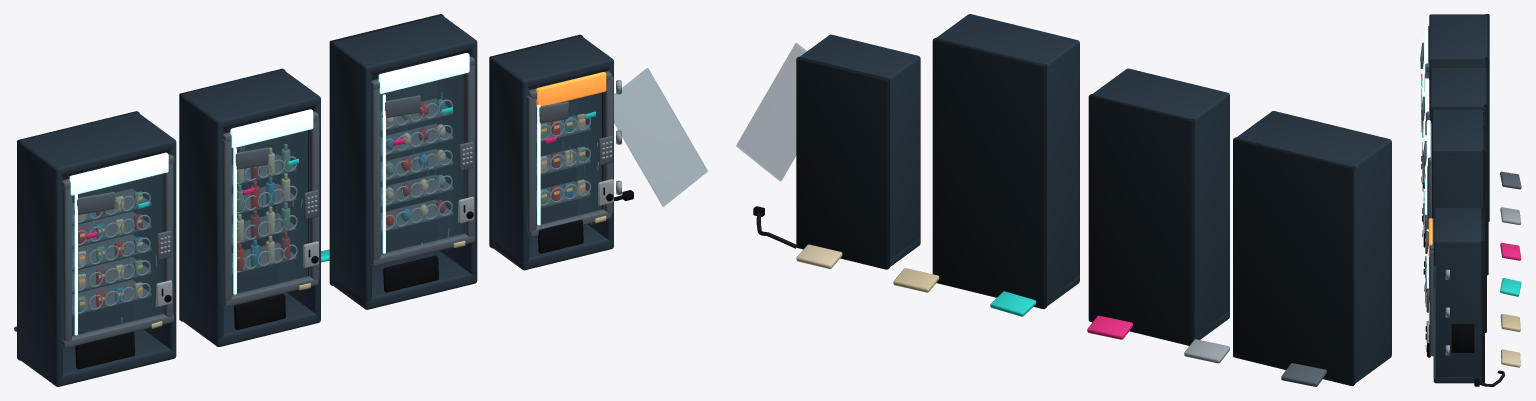
3 renders of one model, left to right at view 1: azimuth 30°, elevation 25°; view 2: azimuth 150°, elevation 25°; view 3: azimuth 270°, elevation 25°, orthographic. The views are drawn at different scales.
Visible parts, largest first — view 1: glass_front_glass, snacks_glass, drinks_glass, glass_front_side_l, snacks_side_l, drinks_side_l, retro_glass, retro_side_l, open_variant_glass_door, snacks_top, drinks_top, glass_front_side_r (+49 smaller); view 2: glass_front_back, snacks_back, drinks_back, retro_back, snacks_side_l, drinks_side_l, glass_front_side_l, retro_side_l, open_variant_glass_door, snacks_top, drinks_top, glass_front_top (+7 smaller); view 3: retro_side_r, glass_front_side_r, snacks_top, drinks_top, glass_front_top, retro_top, retro_missing_panel_dark_opening, retro_back, glass_front_back, snacks_side_r, retro_door_right, snacks_back (+20 smaller).
Part boxes in pixels (box(x1,y1,x2,y2)): glass_front_glass: box(376, 74, 464, 254); snacks_glass: box(67, 173, 163, 336); drinks_glass: box(228, 130, 308, 295); glass_front_side_l: box(330, 41, 371, 309); snacks_side_l: box(18, 142, 62, 386); drinks_side_l: box(180, 97, 223, 345); retro_glass: box(534, 92, 601, 225); retro_side_l: box(491, 57, 529, 269); open_variant_glass_door: box(603, 68, 707, 206); snacks_top: box(20, 112, 176, 175); drinks_top: box(181, 69, 320, 128); glass_front_side_r: box(437, 15, 477, 282); glass_front_back: box(932, 37, 1046, 309); snacks_back: box(1233, 137, 1355, 386); drinks_back: box(1088, 94, 1194, 345); retro_back: box(796, 56, 889, 269); snacks_side_l: box(1354, 140, 1391, 382); drinks_side_l: box(1193, 96, 1229, 339); glass_front_side_l: box(1044, 40, 1079, 304); retro_side_l: box(887, 55, 920, 264); open_variant_glass_door: box(736, 43, 806, 181); snacks_top: box(1237, 111, 1390, 166); drinks_top: box(1093, 68, 1229, 125); glass_front_top: box(937, 14, 1079, 71); retro_side_r: box(1433, 239, 1482, 381); glass_front_side_r: box(1432, 148, 1484, 217); snacks_top: box(1429, 14, 1487, 62); drinks_top: box(1430, 68, 1486, 110); glass_front_top: box(1432, 110, 1484, 155); retro_top: box(1433, 208, 1482, 246); retro_missing_panel_dark_opening: box(1451, 324, 1474, 352); retro_back: box(1480, 207, 1484, 382); glass_front_back: box(1482, 109, 1486, 332); snacks_side_r: box(1429, 58, 1486, 79); retro_door_right: box(1429, 250, 1433, 353); snacks_back: box(1485, 14, 1489, 221).
Size of the model in its own units: 6.4 by 2.28 by 1.14.
